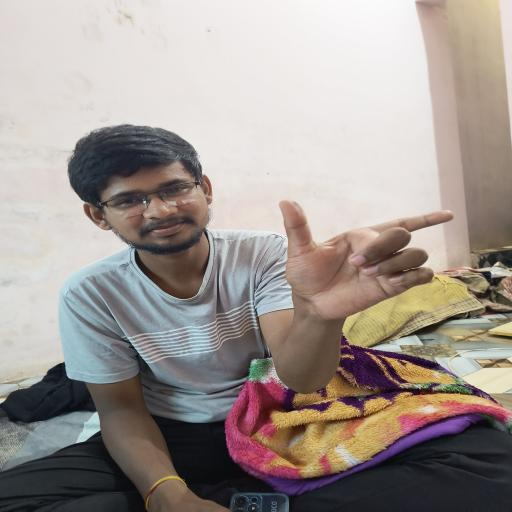Sorry: (247, 189, 494, 330)
